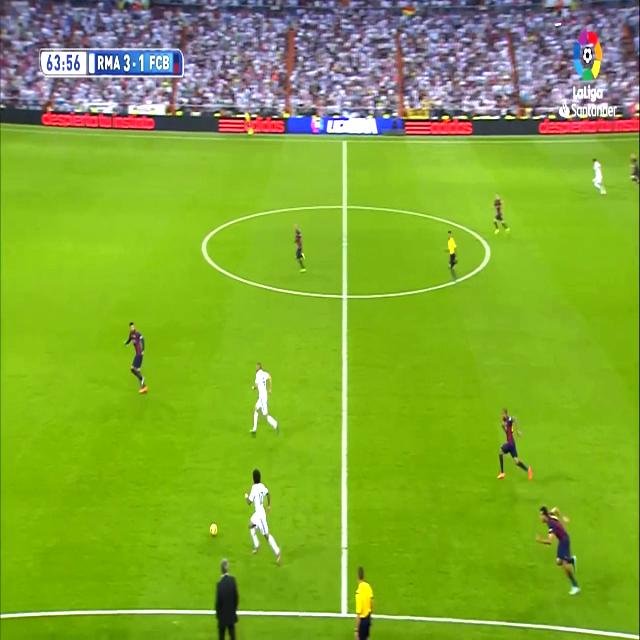halfcircle_bottom: (337, 275, 353, 314)
halfcircle_top: (338, 190, 352, 222)
midline_bottom_intersection: (336, 588, 353, 622)
midline_top_intersection: (340, 134, 350, 152)
